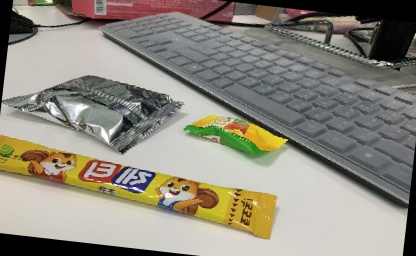br: (0, 64, 188, 162)
jeli: (182, 108, 291, 162)
jt: (0, 133, 284, 243)
